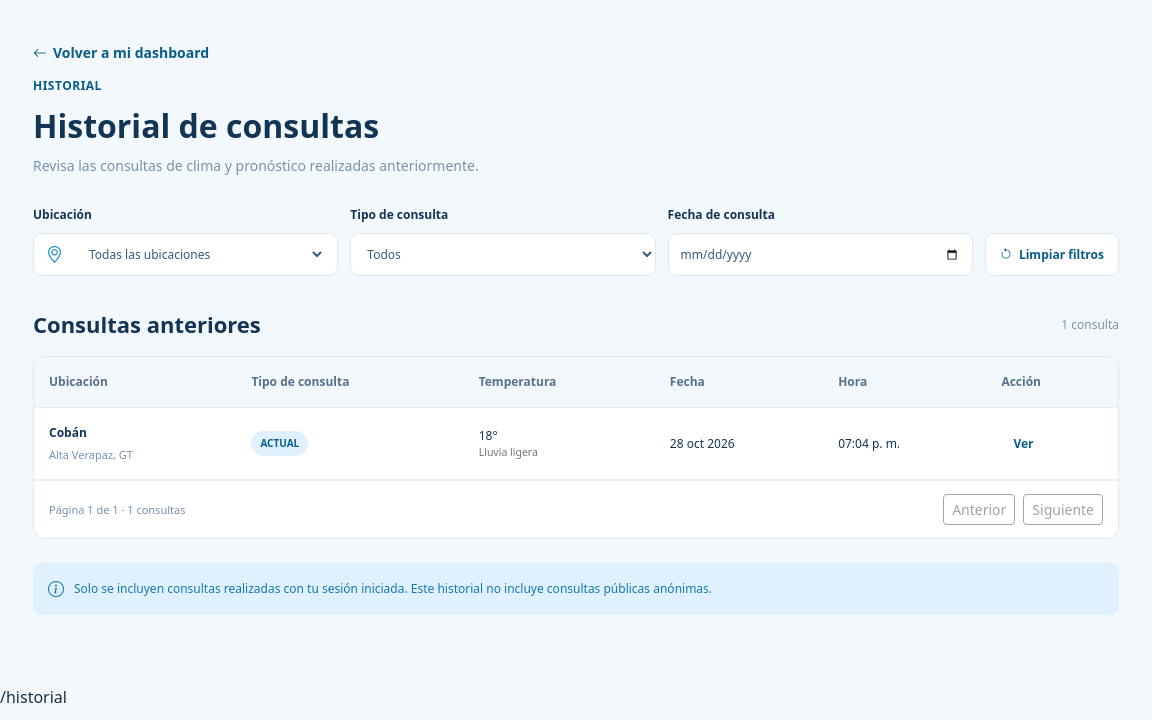
Scenario: M08 – historial › detalle inexistente o ajeno (404)
Click the button "Ver".
click(1023, 444)  # box 1001,426 -> 1046,460
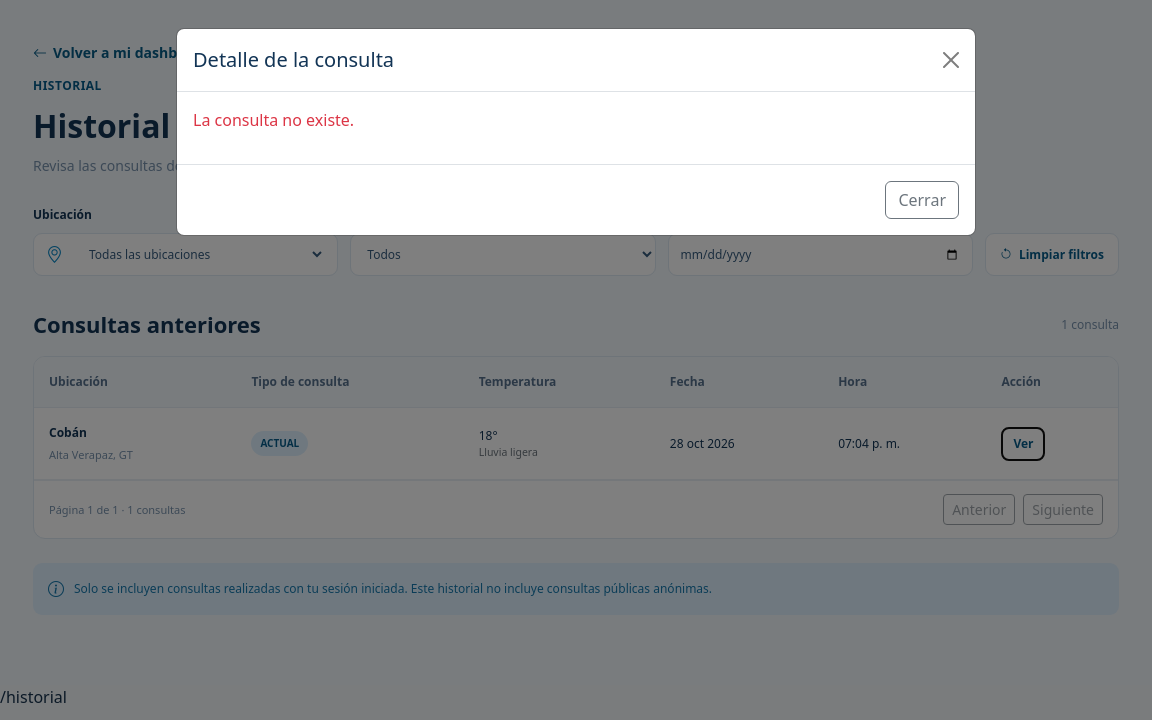
Check: the text "La consulta no existe." is shown, box 193,109 -> 354,131
